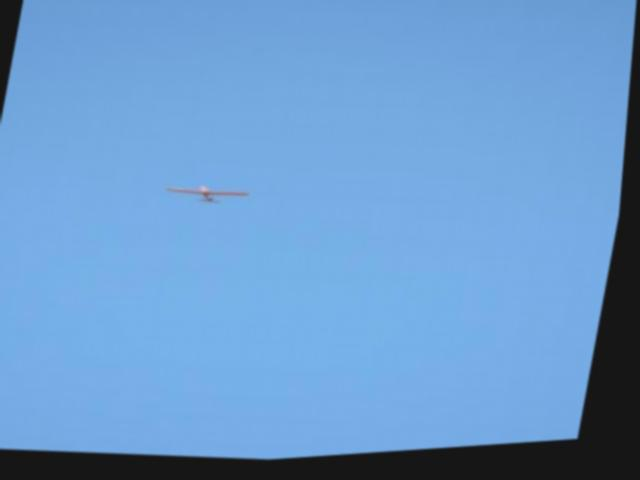iha: (165, 179, 256, 218)
